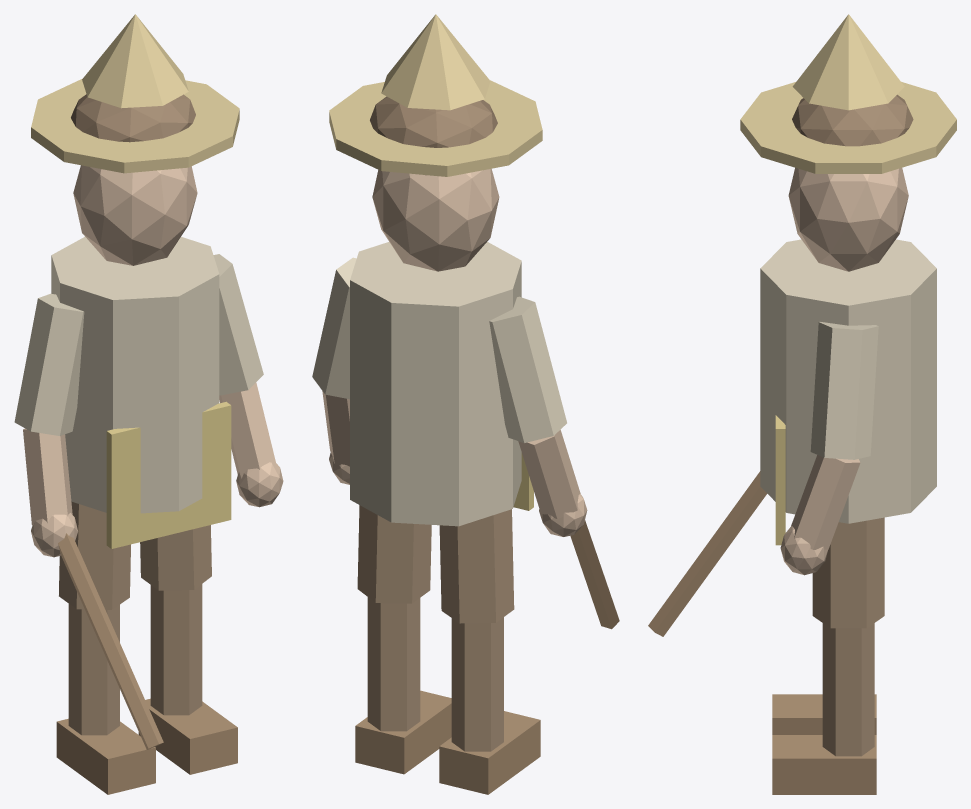
File: farmer.glb
3 renders of one model, left to right at view 1: azimuth 30°, elevation 25°; view 2: azimuth 150°, elevation 25°; view 3: azimuth 270°, elevation 25°, orthographic. The views are drawn at different scales.
Parts seen in each view (by area): view 1: part0, part1, part16, part15, part6, part10, part17, part4, part5, part11, part18, part3 (+7 smaller); view 2: part0, part1, part16, part6, part3, part10, part4, part17, part9, part5, part2, part11 (+6 smaller); view 3: part0, part16, part1, part12, part9, part10, part17, part11, part2, part13, part18, part5 (+2 smaller).
Boxes of the visible parts, x1=… form: part0: x1=51, y1=236, x2=219, y2=513; part1: x1=73, y1=165, x2=197, y2=265; part16: x1=31, y1=78, x2=239, y2=173; part15: x1=106, y1=401, x2=231, y2=548; part6: x1=14, y1=293, x2=84, y2=435; part10: x1=150, y1=584, x2=202, y2=715; part17: x1=82, y1=14, x2=188, y2=108; part4: x1=68, y1=604, x2=119, y2=735; part5: x1=56, y1=718, x2=155, y2=794; part11: x1=138, y1=698, x2=237, y2=774; part18: x1=58, y1=533, x2=163, y2=749; part3: x1=59, y1=501, x2=130, y2=609; part0: x1=350, y1=241, x2=521, y2=526; part1: x1=372, y1=168, x2=499, y2=271; part16: x1=329, y1=80, x2=542, y2=176; part6: x1=489, y1=296, x2=566, y2=442; part3: x1=439, y1=509, x2=514, y2=623; part10: x1=367, y1=597, x2=420, y2=731; part4: x1=451, y1=617, x2=503, y2=751; part17: x1=381, y1=14, x2=490, y2=110; part9: x1=357, y1=505, x2=431, y2=603; part5: x1=439, y1=711, x2=540, y2=794; part2: x1=370, y1=96, x2=497, y2=175; part11: x1=355, y1=690, x2=451, y2=774; part0: x1=760, y1=239, x2=936, y2=523; part16: x1=740, y1=81, x2=956, y2=173; part1: x1=788, y1=167, x2=908, y2=271; part12: x1=810, y1=322, x2=878, y2=459; part9: x1=812, y1=517, x2=884, y2=628; part10: x1=822, y1=623, x2=874, y2=756; part17: x1=792, y1=14, x2=904, y2=110; part11: x1=772, y1=735, x2=876, y2=794; part2: x1=792, y1=94, x2=913, y2=146; part13: x1=791, y1=455, x2=860, y2=549; part18: x1=648, y1=471, x2=767, y2=636; part5: x1=772, y1=694, x2=876, y2=734.
Bounding box in the file's own units: 0.72 × 2.06 × 0.7704.
